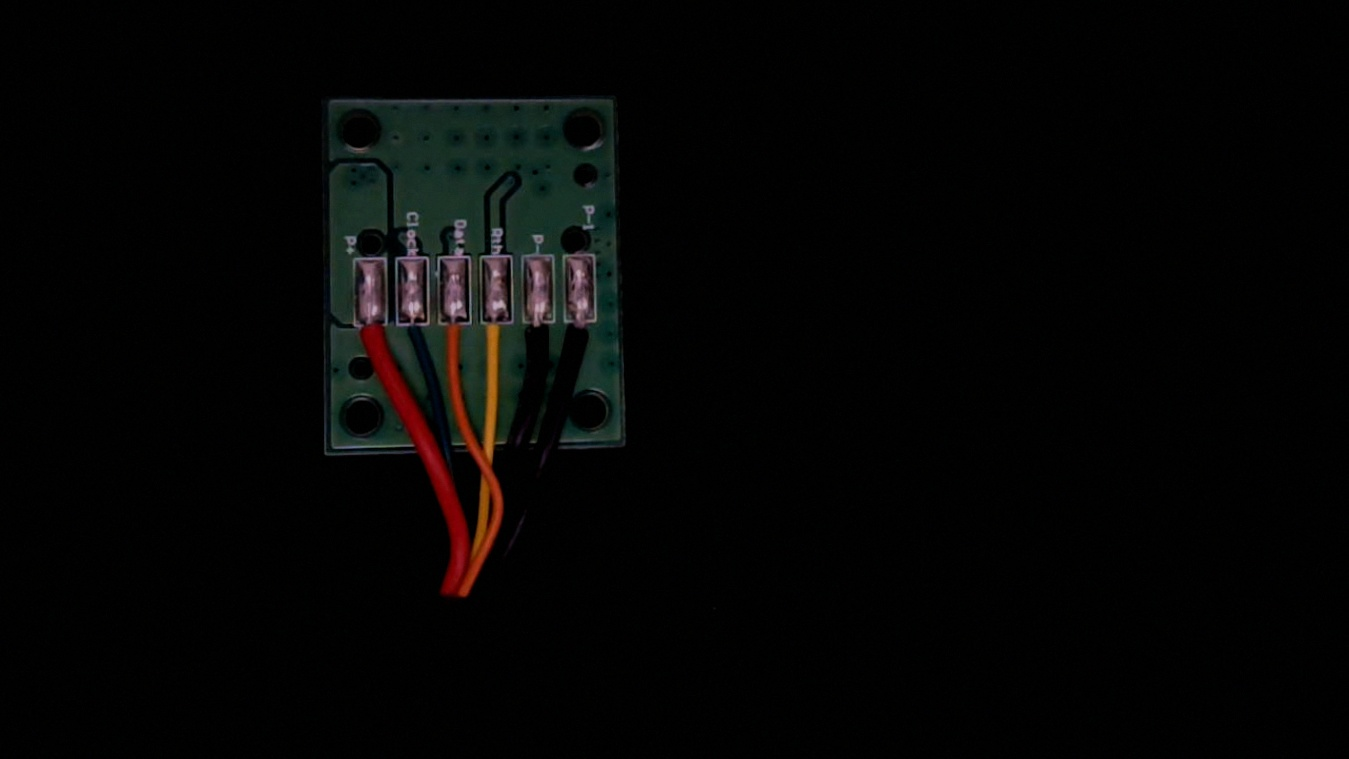Black: (521, 305, 554, 372)
Black1: (564, 302, 600, 374)
Green: (395, 307, 431, 366)
Orange: (437, 306, 473, 374)
Red: (352, 308, 390, 383)
Yellow: (478, 306, 514, 375)
